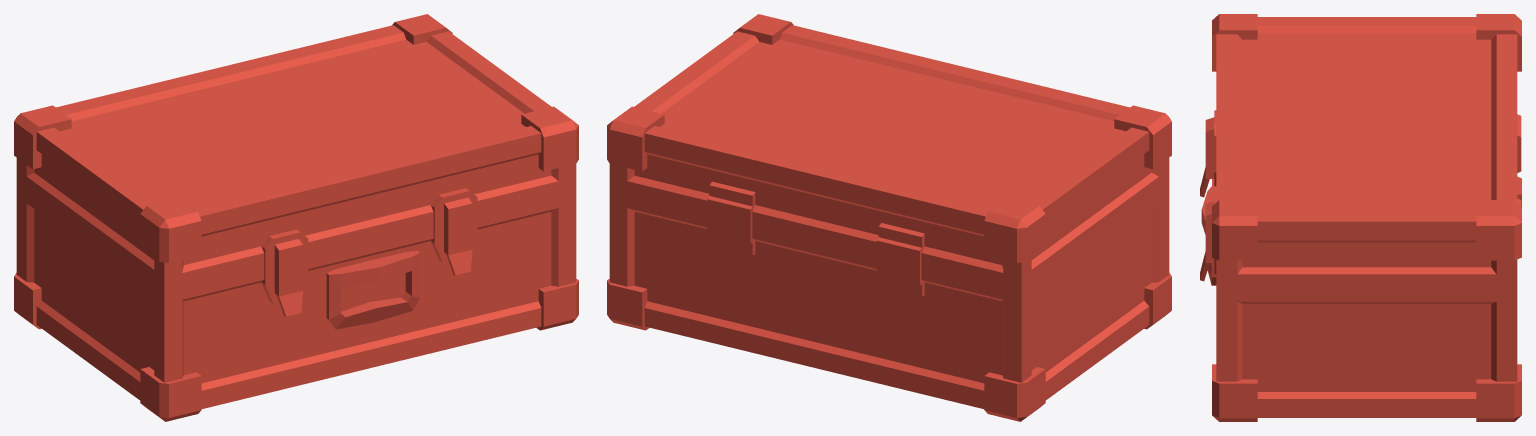
The model's file is SM_Box_Equipment_Padded_Small.fbx.
The picture shows the model from 3 angles, left to right: view 1: azimuth 30°, elevation 25°; view 2: azimuth 150°, elevation 25°; view 3: azimuth 270°, elevation 25°; orthographic projection.
Visible parts, largest first — view 1: SM_Box_Equipment_Padded_Small; view 2: SM_Box_Equipment_Padded_Small; view 3: SM_Box_Equipment_Padded_Small.
Boxes of the visible parts, x1,y1,x2,y2 form: SM_Box_Equipment_Padded_Small: (14, 14, 578, 421); SM_Box_Equipment_Padded_Small: (607, 14, 1171, 421); SM_Box_Equipment_Padded_Small: (1200, 14, 1521, 421).
Size of the model in its own units: 30.98 by 47.44 by 21.85.
